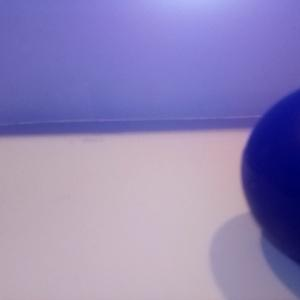dead_ball: (241, 86, 300, 264)
